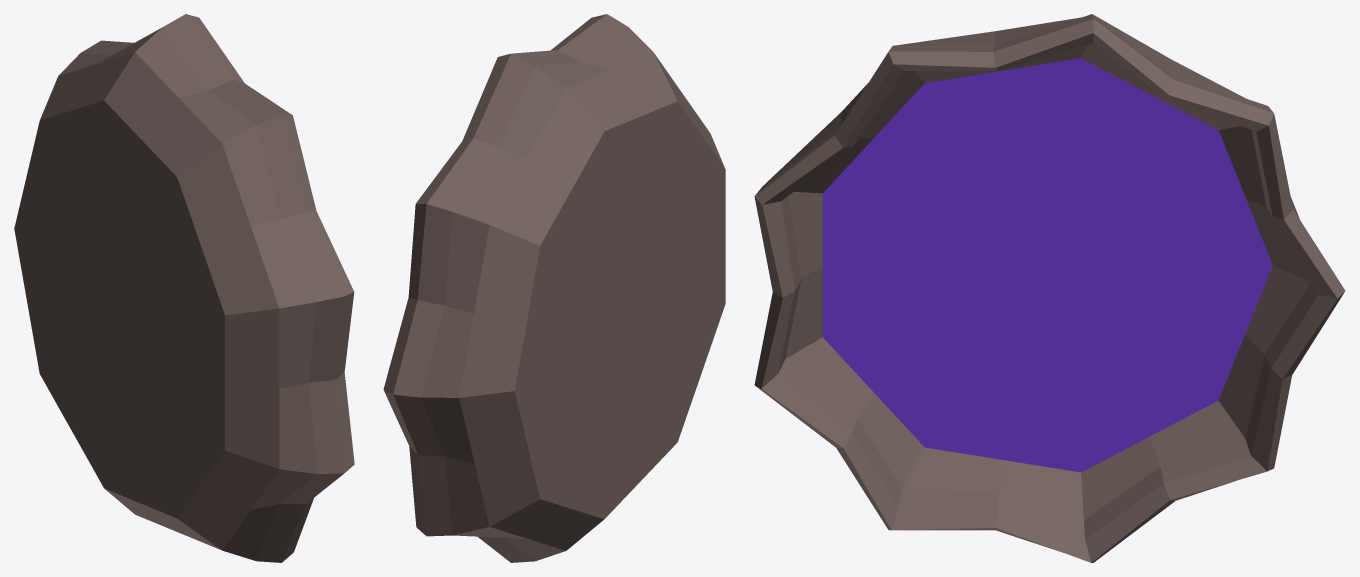
File: props_bottleCap.fbx
The picture shows the model from 3 angles, left to right: view 1: azimuth 30°, elevation 25°; view 2: azimuth 150°, elevation 25°; view 3: azimuth 270°, elevation 25°; orthographic projection. The views are drawn at different scales.
Parts seen in each view (by area): view 1: Cylinder; view 2: Cylinder; view 3: Cylinder.
Part boxes in pixels (left/top/right/bottom): Cylinder: left=14, top=14, right=354, bottom=562; Cylinder: left=383, top=14, right=725, bottom=562; Cylinder: left=754, top=14, right=1345, bottom=562.
Bounding box in the file's own units: 53.64 × 259 × 255.
